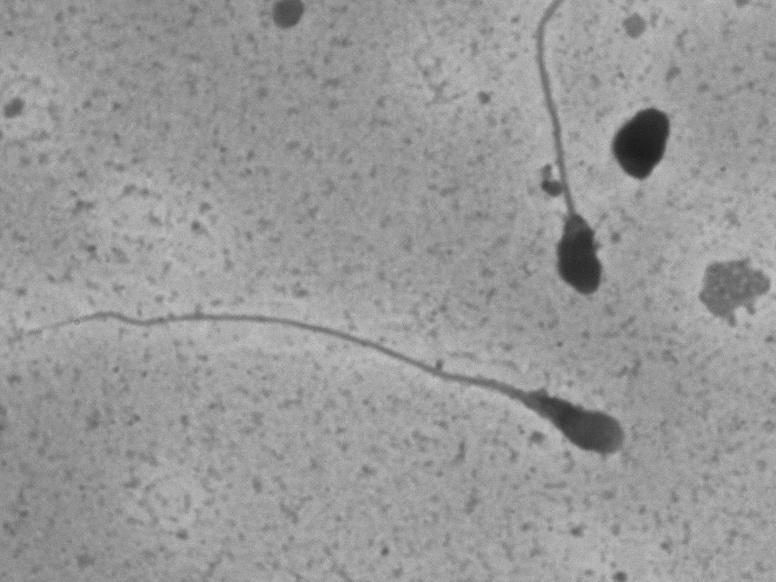Abnormal: (24, 259, 664, 489), (510, 5, 607, 322)
